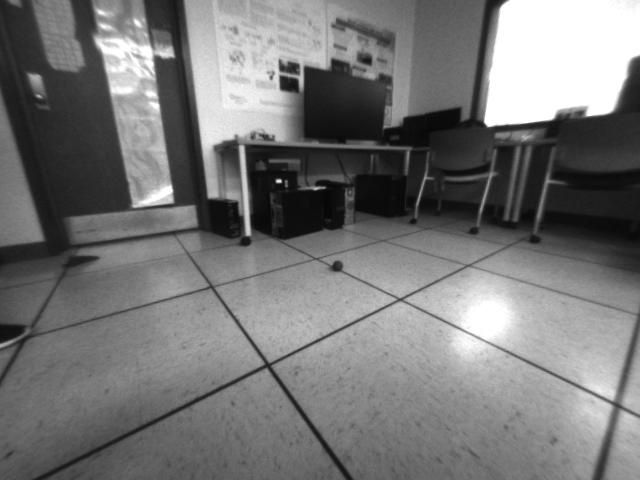dogtoy: (323, 253, 354, 277)
